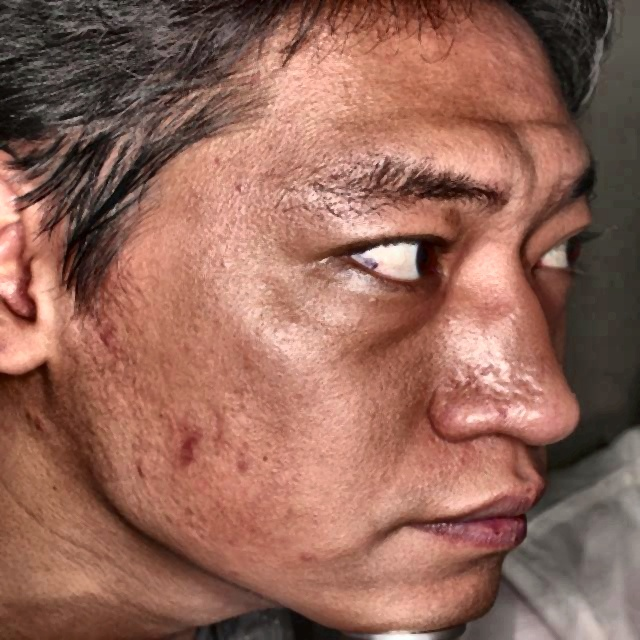comedone: (167, 418, 215, 471)
